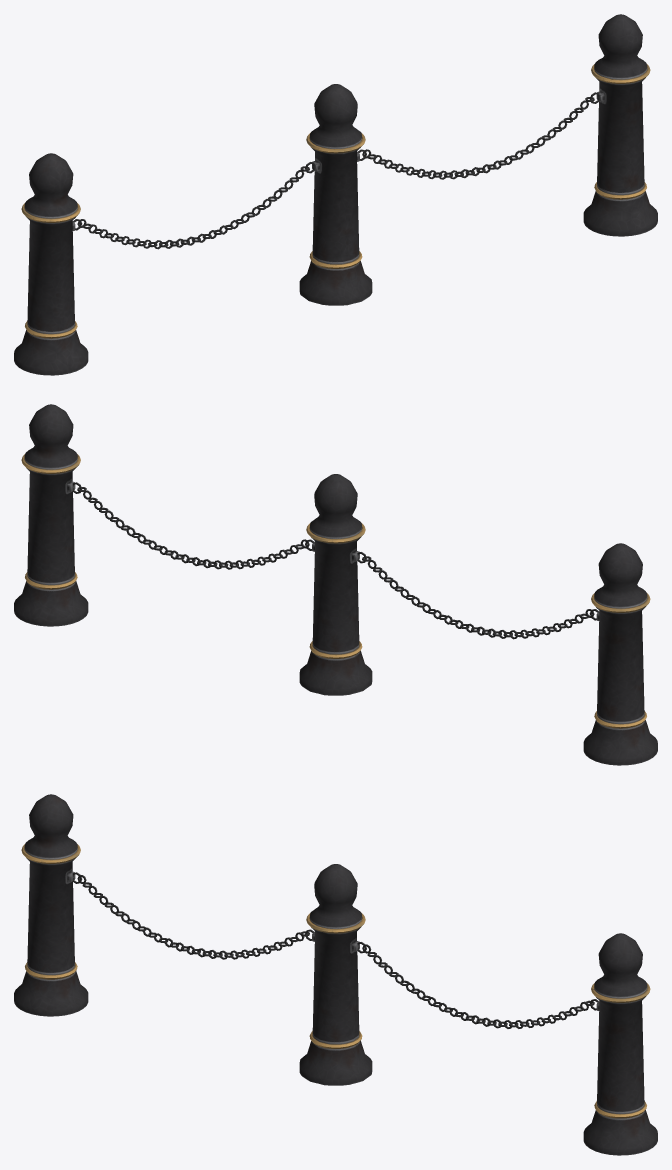
Rendered from Bollards.fbx.
3 renders of one model, top to bottom at view 1: azimuth 30°, elevation 25°; view 2: azimuth 150°, elevation 25°; view 3: azimuth 330°, elevation 25°, orthographic.
Parts seen in each view (by area): view 1: Bollards; view 2: Bollards; view 3: Bollards.
Part boxes in pixels (bbox=[...]): Bollards: bbox=[14, 14, 657, 375]; Bollards: bbox=[14, 404, 657, 765]; Bollards: bbox=[14, 794, 657, 1155].
Bounding box in the file's own units: 824 × 255 × 84.
